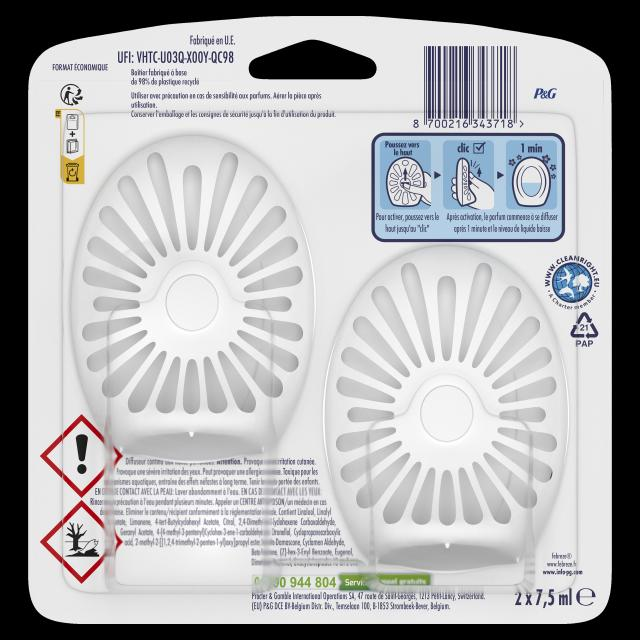GHS_Symbol_ENVIRONMENT: (39, 500, 123, 584)
GHS_Symbol_EXCLAMATION_MARK: (41, 413, 123, 498)
